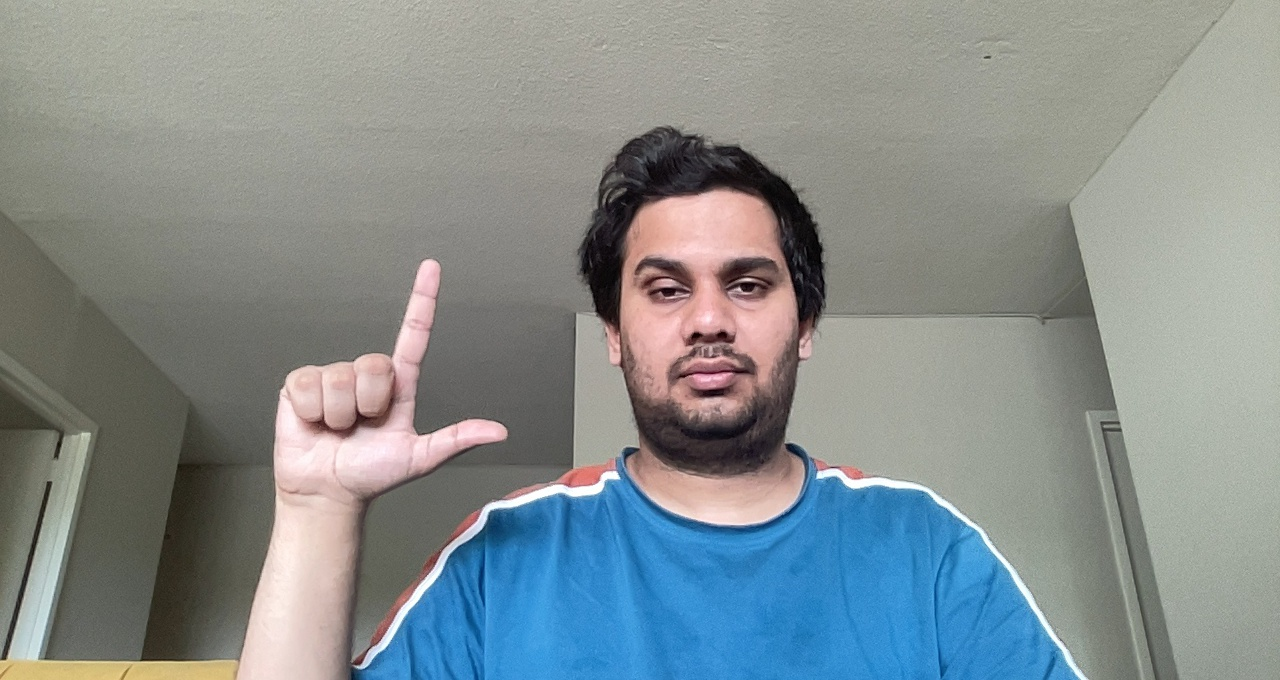L: (269, 248, 511, 499)
